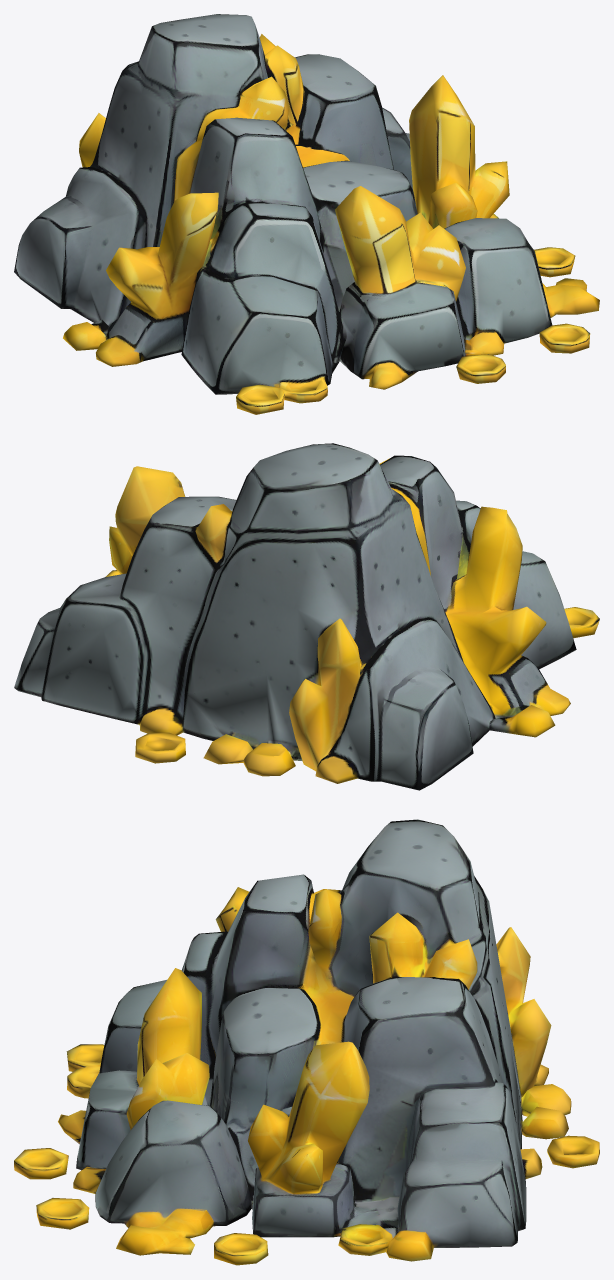
Rendered from GoldMineTile.fbx.
3 views of the same model, one above another, from view 1: azimuth 30°, elevation 25°; view 2: azimuth 150°, elevation 25°; view 3: azimuth 270°, elevation 25° (orthographic). The views are drawn at different scales.
Parts seen in each view (by area): view 1: Mesh_0; view 2: Mesh_0; view 3: Mesh_0.
Part boxes in pixels (left/top/right/bottom): Mesh_0: left=14, top=14, right=599, bottom=414; Mesh_0: left=14, top=443, right=599, bottom=790; Mesh_0: left=14, top=819, right=599, bottom=1265.
Bounding box in the file's own units: 189 × 97.43 × 191.
1 material, 1 textured.
